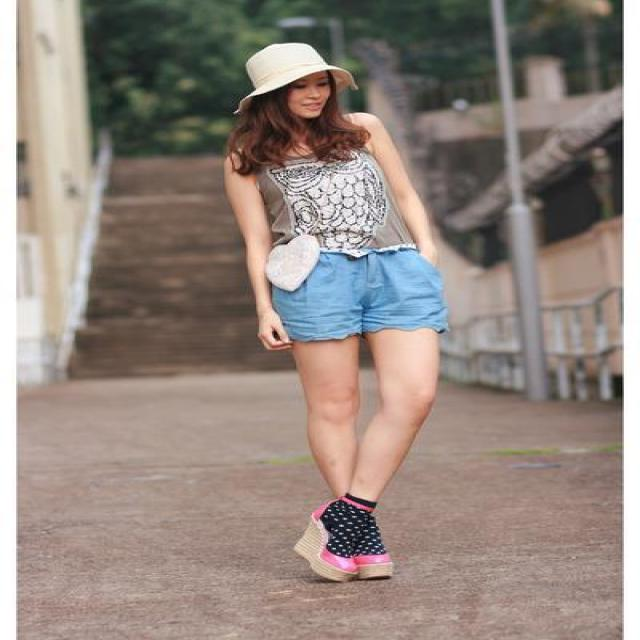hat: (242, 43, 342, 100)
shirt: (250, 146, 419, 289)
shoe: (294, 499, 392, 579)
shorts: (254, 242, 448, 345)
